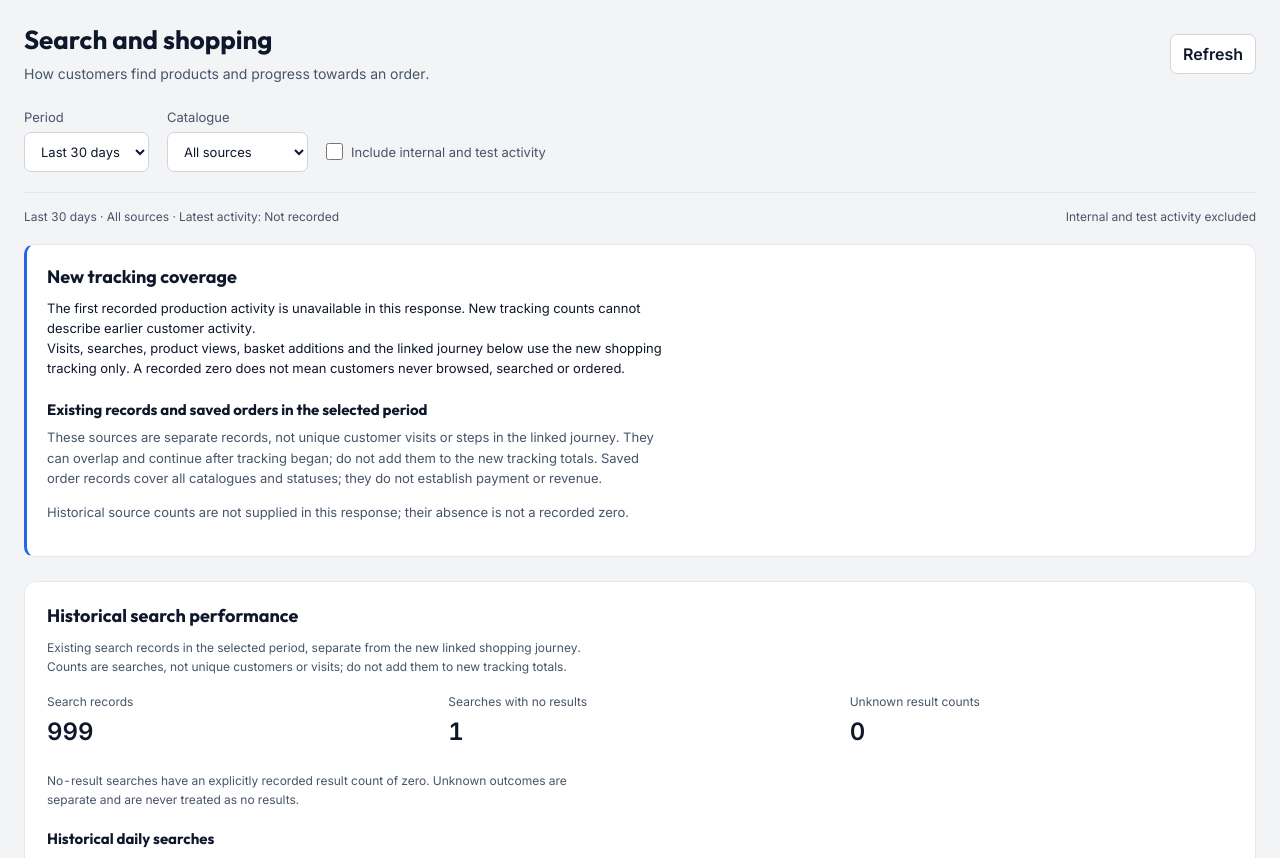
Scenario: shopping analytics UI › does not show combined historical searches for catalogue filters even if payload contains totals
Select "Main catalogue" in the dropdown labelled "Catalogue": (238,152) [167,132,308,172]
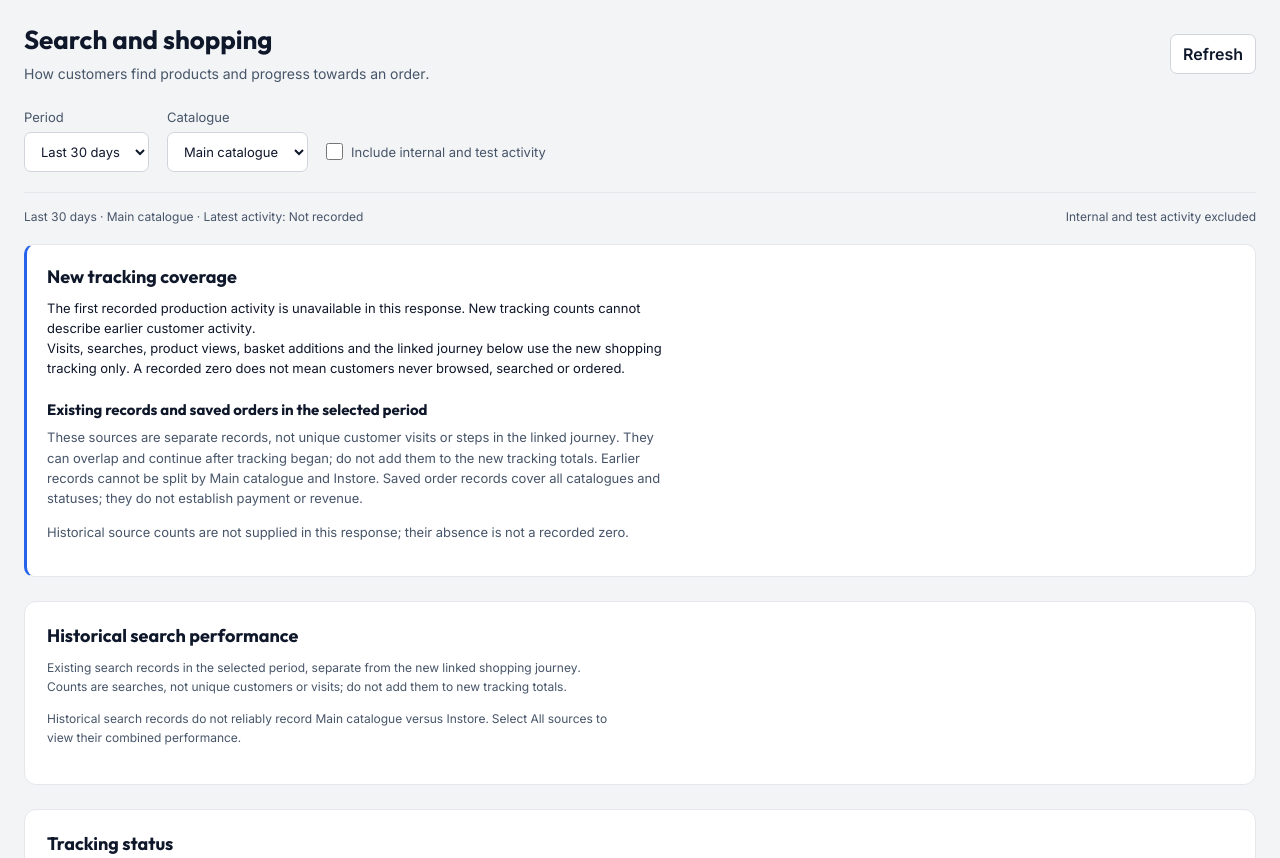
Now the element with class "sa2-historical-search" shows "Select All sources", box [47,711,607,745]
Now the text with class "sa2-historical-search" no longer shows "999"
Now the element with class "sa2-historical-kpis" is gone
